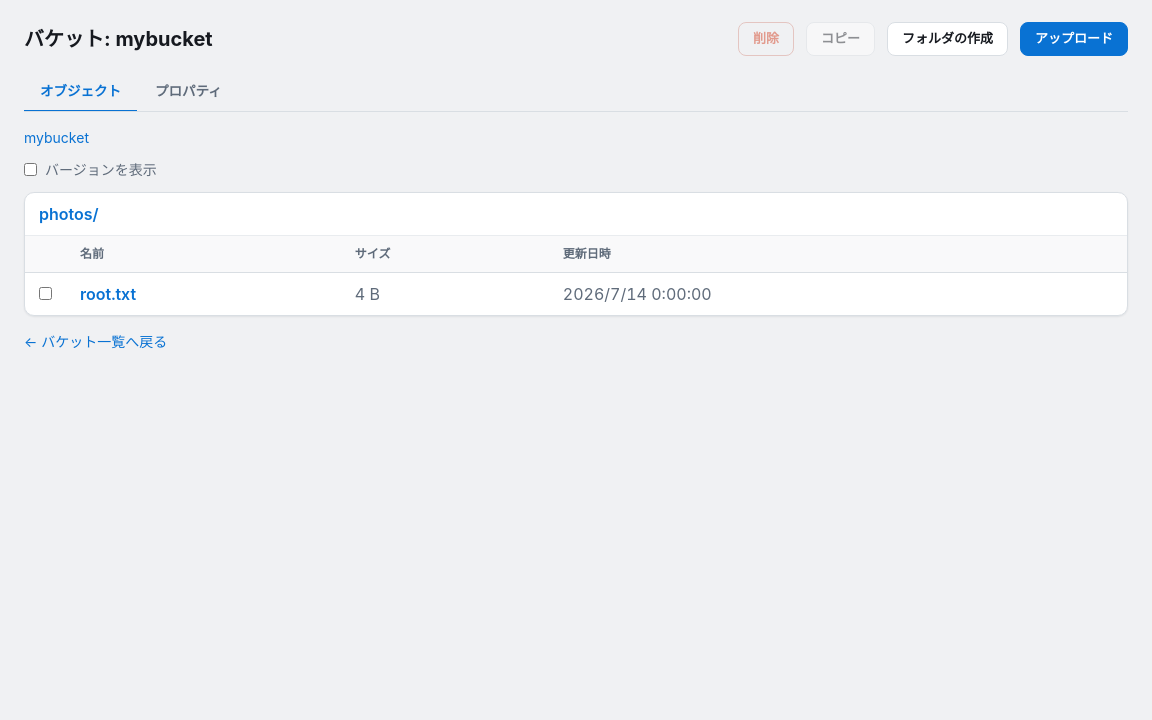
Test: BucketBrowserPage › opens the detail panel on object click
The width and height of the screenshot is (1152, 720).
Step 1. Click the button with test id "object-row-root.txt" → (108, 294), box [80,282,136,306]
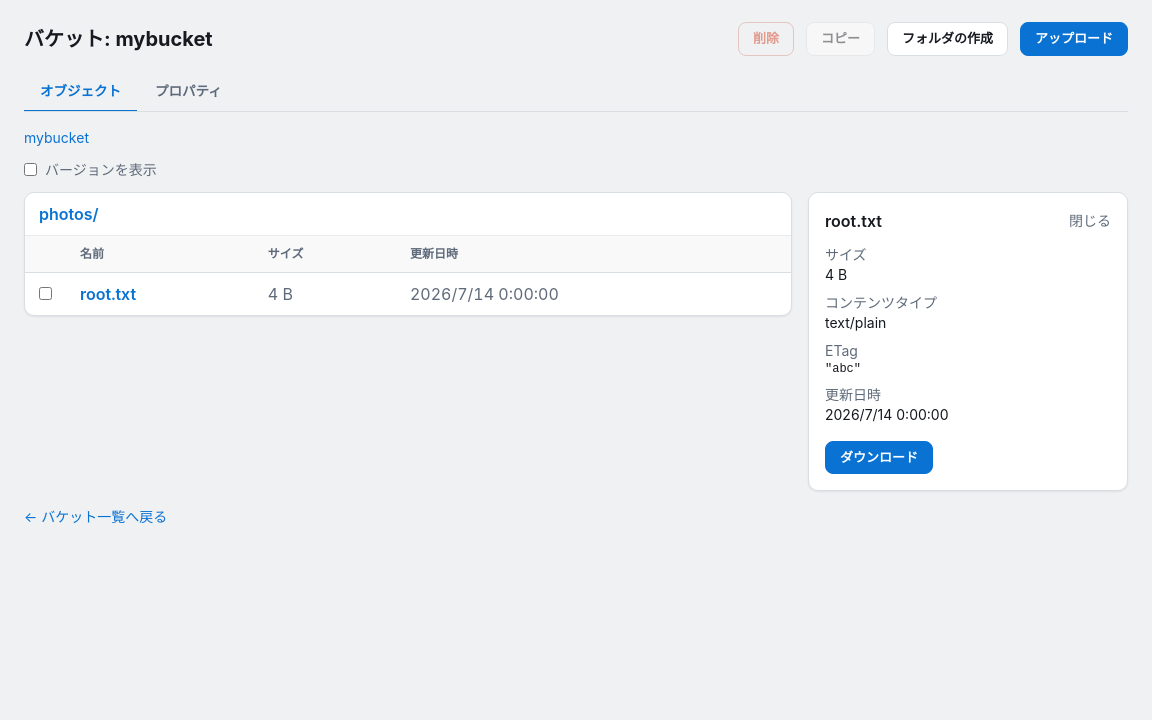
Expected: the text with test id "od-content-type" reads "text/plain", [825,314,886,331]
Expected: the text with test id "od-etag" reads "\"abc\"", [825,362,861,376]
